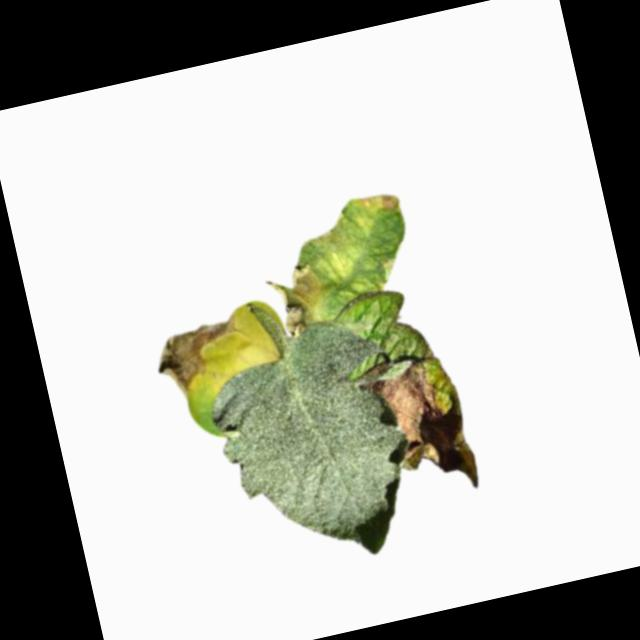Late_blight: (370, 354, 453, 474), (147, 312, 251, 401), (260, 257, 335, 341), (354, 186, 402, 220)
